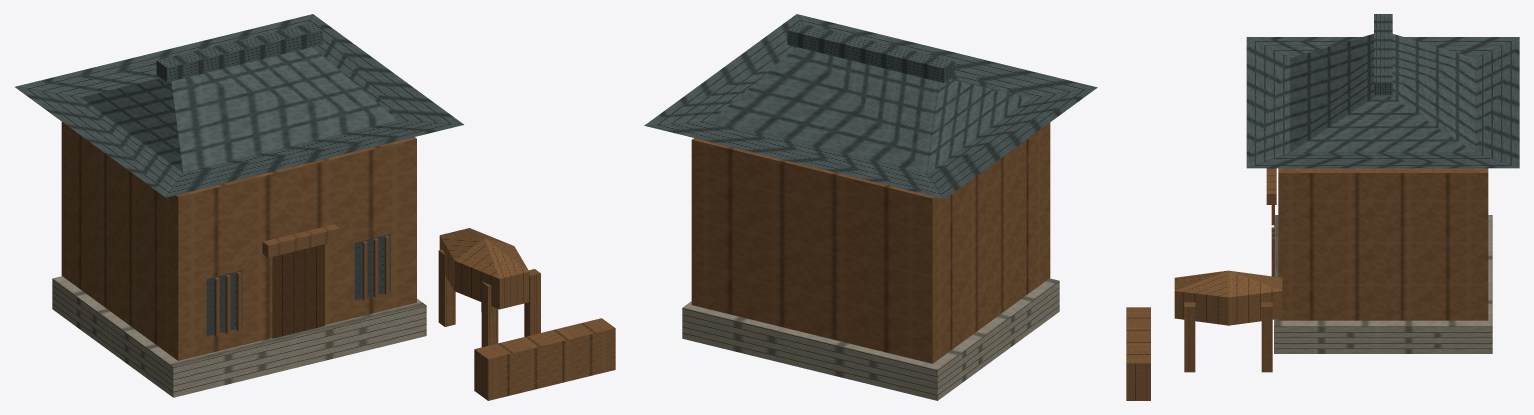
The model's file is domestic-STABLE-1-lod1.glb.
3 views of the same model, side by side, from view 1: azimuth 30°, elevation 25°; view 2: azimuth 150°, elevation 25°; view 3: azimuth 270°, elevation 25° (orthographic). The views are drawn at different scales.
Bounding box in the file's own units: 0.7213 × 0.499 × 0.712.
Materials: 1 (1 with a texture image).
